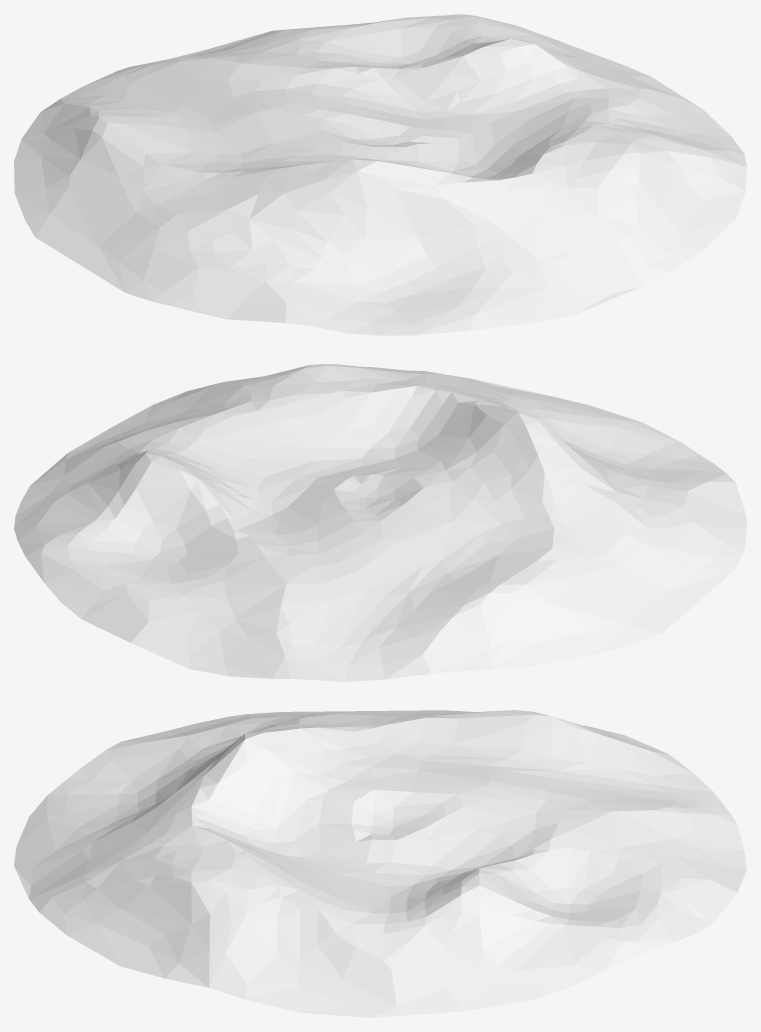
Rendered from DWE_Snow_Ground_03A.fbx.
3 renders of one model, top to bottom at view 1: azimuth 30°, elevation 25°; view 2: azimuth 150°, elevation 25°; view 3: azimuth 270°, elevation 25°, orthographic.
Parts seen in each view (by area): view 1: DWE_Snow_Ground_03A; view 2: DWE_Snow_Ground_03A; view 3: DWE_Snow_Ground_03A.
Part boxes in pixels (left/top/right/bottom): DWE_Snow_Ground_03A: left=14, top=14, right=746, bottom=335; DWE_Snow_Ground_03A: left=14, top=364, right=746, bottom=681; DWE_Snow_Ground_03A: left=14, top=710, right=746, bottom=1017.
Bounding box in the file's own units: 1075 × 150 × 1083.
